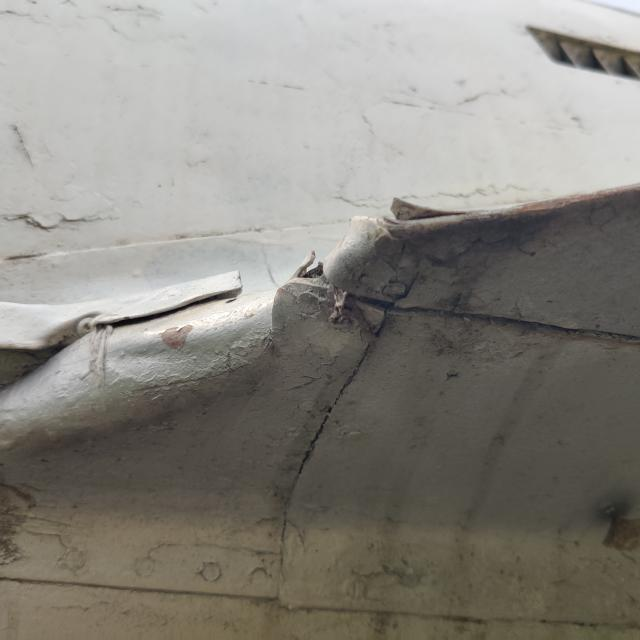crack: (348, 184, 488, 248), (269, 230, 348, 303)
